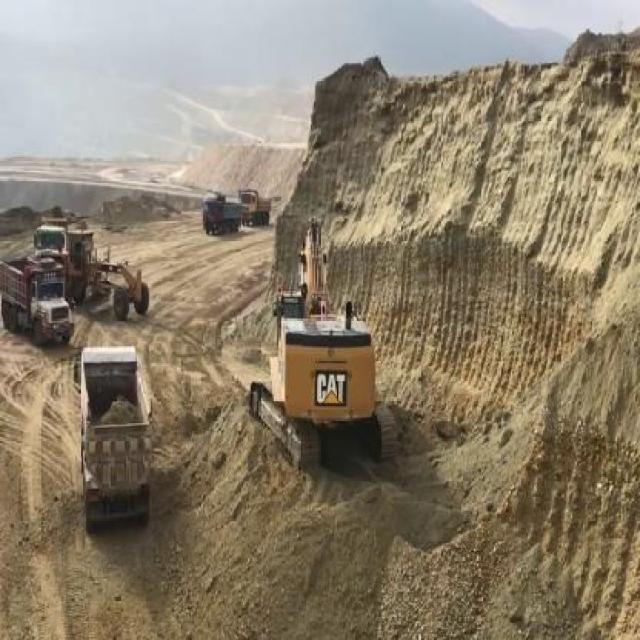dump_truck: (73, 344, 155, 533), (2, 250, 72, 344), (200, 195, 242, 236), (240, 191, 272, 226)
excavator: (248, 216, 399, 478)
